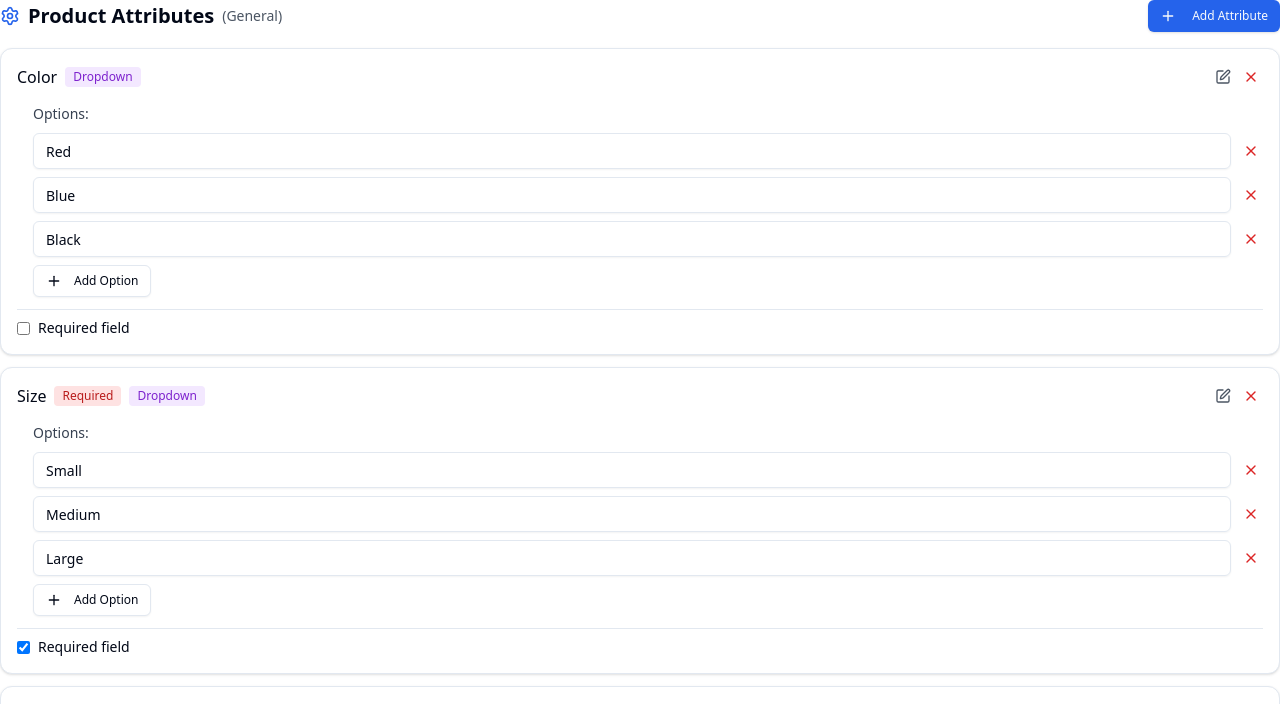
ProductAttributesEditor › disables save when attribute name is empty
Click the button with test id "add-attribute-btn" at (1214, 16), box [1148,0,1279,32]
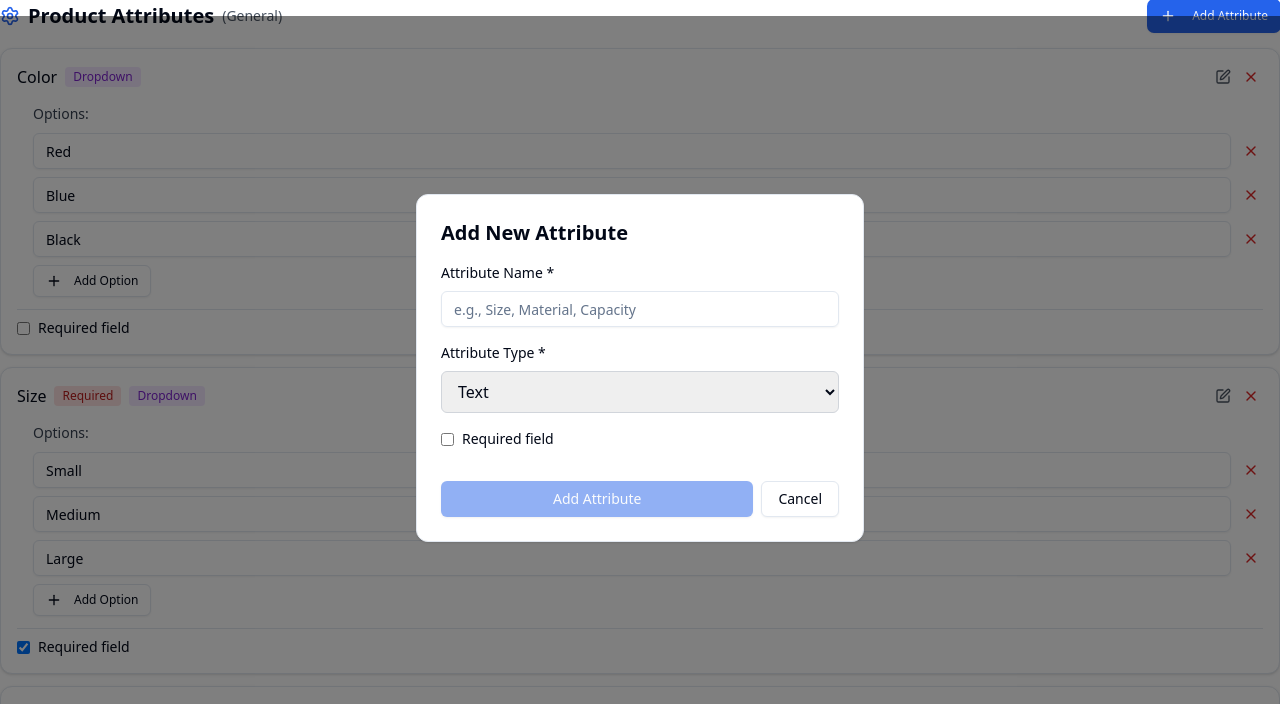
Expected: the button with test id "save-new-attr" is disabled, [441,481,753,517]
